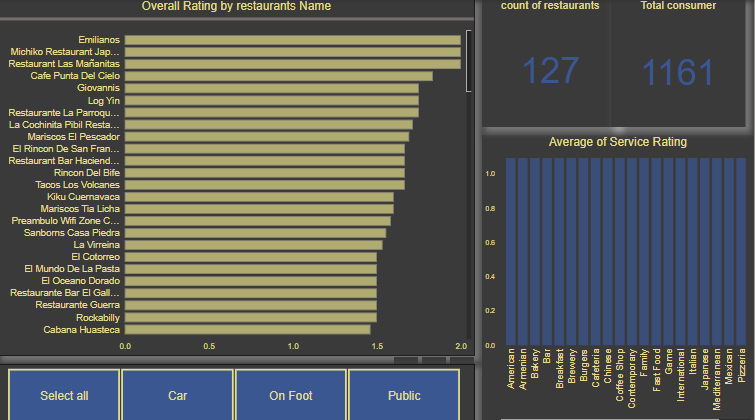

The page's visual inventory and layout, read from the dashboard file:
{"tool":"powerbi","page":{"name":"Page 1","canvas":[1280,720],"ordinal":1},"visuals":[{"type":"barChart","title":"Overall Rating by restaurants Name","fields":{"Category":["the restaurants.restaurants.Name"],"Y":["Avg(the restaurants.Overall Rating)"]},"box":[10.6,0,800.4,599.4],"z":0},{"type":"slicer","fields":{"Values":["the restaurants.the consumer transportion"]},"box":[0,613.6,811,105.8],"z":1000},{"type":"columnChart","title":"Average of Service Rating ","fields":{"Category":["restaurant cuisines.Cuisine"],"Y":["Avg(the restaurants.Service Rating)"]},"box":[823.4,229.2,456.6,490.1],"z":2000},{"type":"card","title":"count of restaurants ","fields":{"Values":["Count(the restaurants.restaurants.Name)"]},"box":[823.4,0,229.2,215.1],"z":3000},{"type":"card","title":"Total consumer ","fields":{"Values":["the restaurants.count of consumers"]},"box":[1040.2,0,225.7,215.1],"z":4000}]}

Visuals, with their boxes in screenshot pixels (x1, y1, x2, y2), scaled from the page's 1280x720 canvas onto the 755x420 screenshot:
"Overall Rating by restaurants Name" barChart: (6, 0, 478, 350)
slicer - the restaurants.the consumer transportion: (0, 358, 478, 419)
"Average of Service Rating " columnChart: (486, 134, 754, 419)
"count of restaurants " card: (486, 0, 621, 125)
"Total consumer " card: (614, 0, 747, 125)
